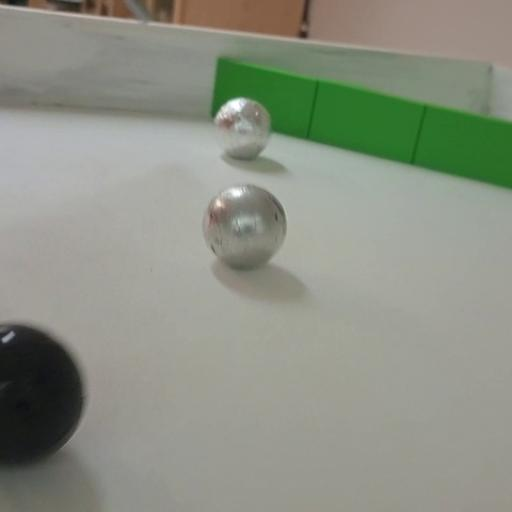alive: (203, 184, 286, 270), (214, 98, 271, 161)
dead: (0, 320, 85, 464)
